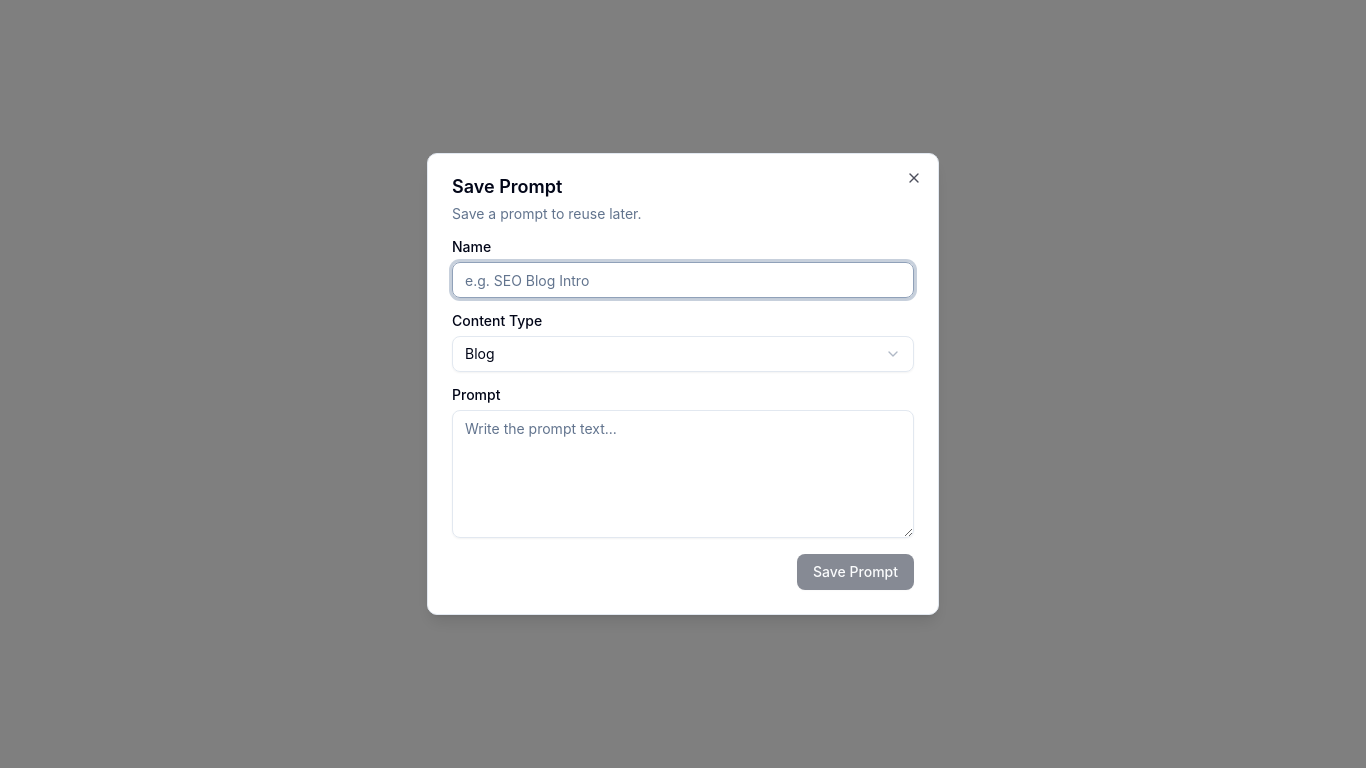
Test: SavePromptDialog › disables submit until name and prompt body are filled
Expected: the button "Save Prompt" is disabled, x1=797 y1=554 x2=914 y2=590
In the field labelled "Name": (683, 280) x1=452 y1=262 x2=914 y2=298, type "My Prompt"
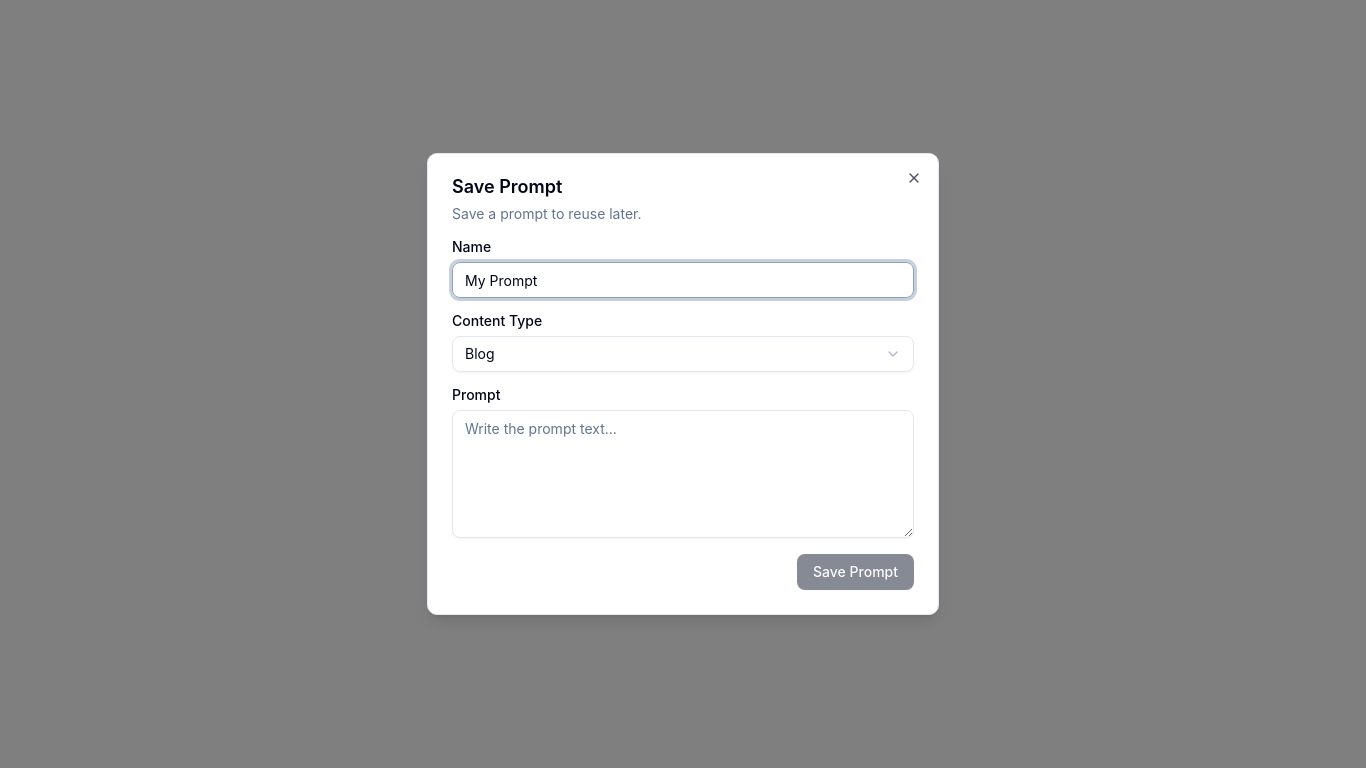
Expected: the button "Save Prompt" is disabled, x1=797 y1=554 x2=914 y2=590
In the text box labelled "Prompt": (683, 474) x1=452 y1=410 x2=914 y2=538, type "Write about X."
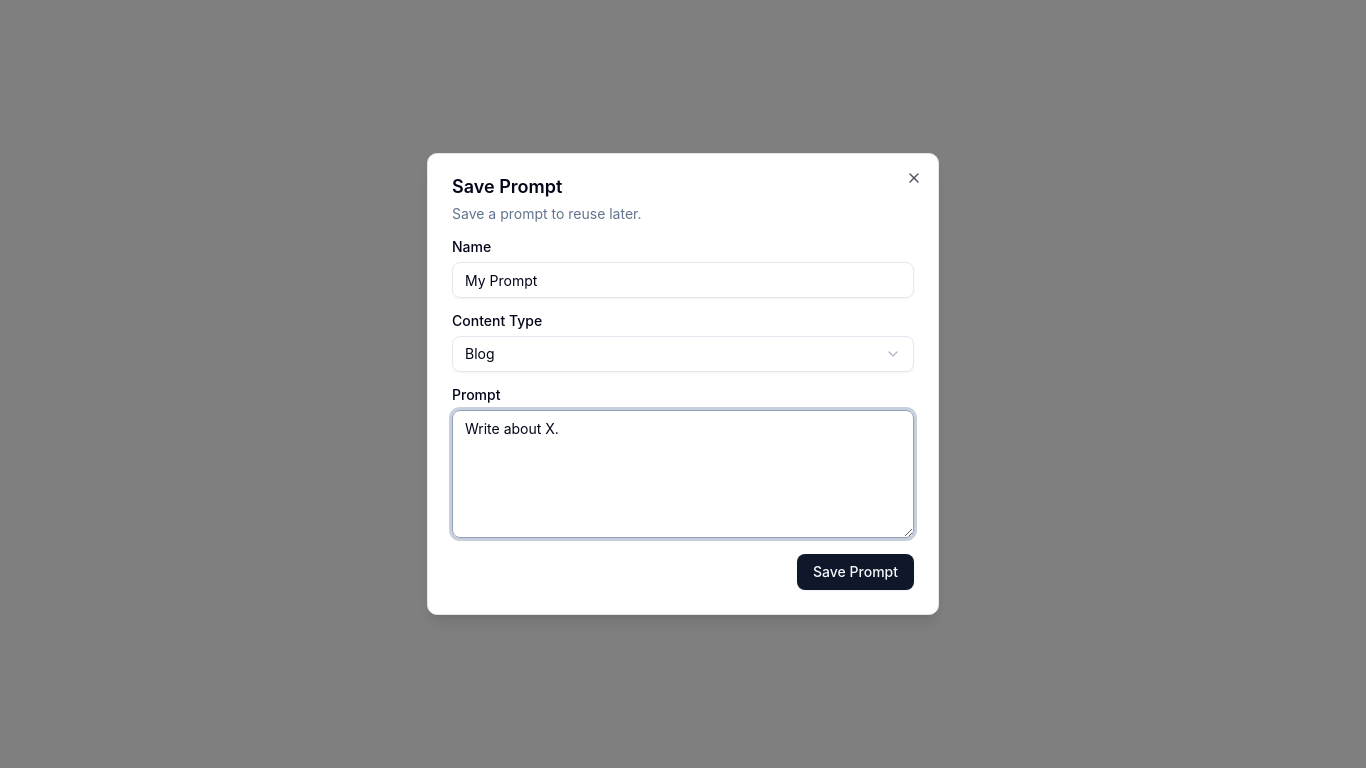
Expected: the button "Save Prompt" is enabled, x1=797 y1=554 x2=914 y2=590
